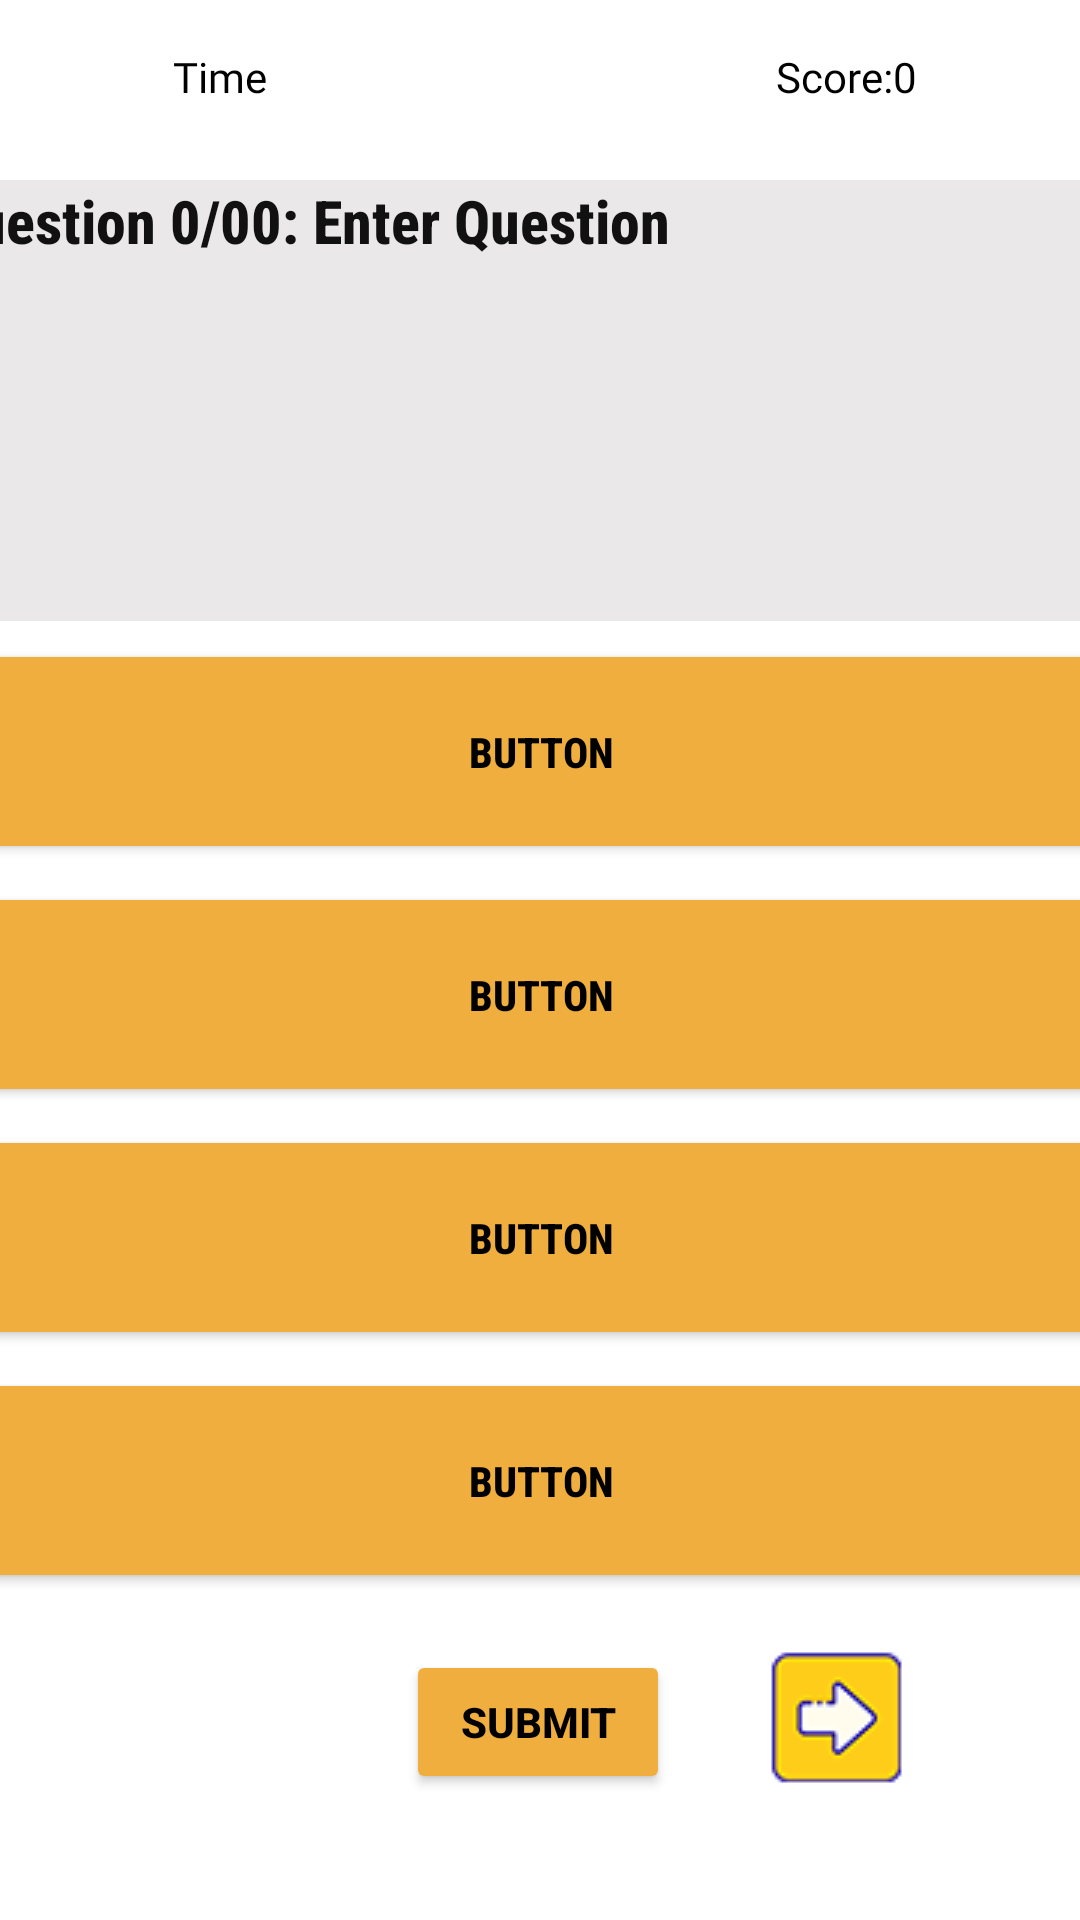

Icons on this 1080 x 1920 Android screen, each with its box as rect(x1, y1, x2, y2):
Next: rect(771, 1652, 902, 1783)
